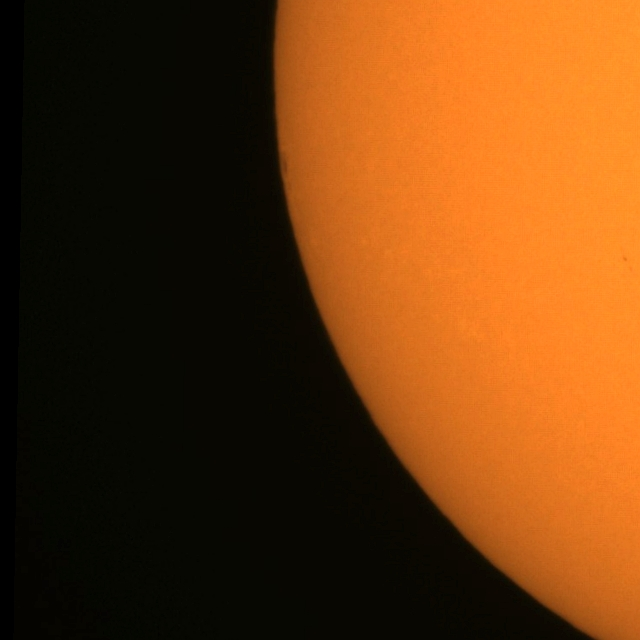sunspot: (622, 255, 628, 263)
